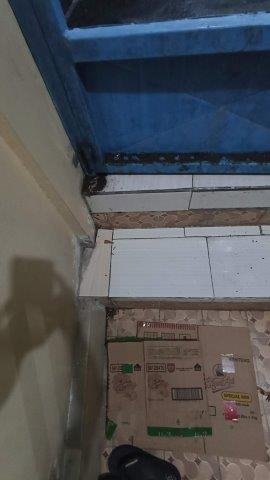kardus: (107, 323, 265, 458)
